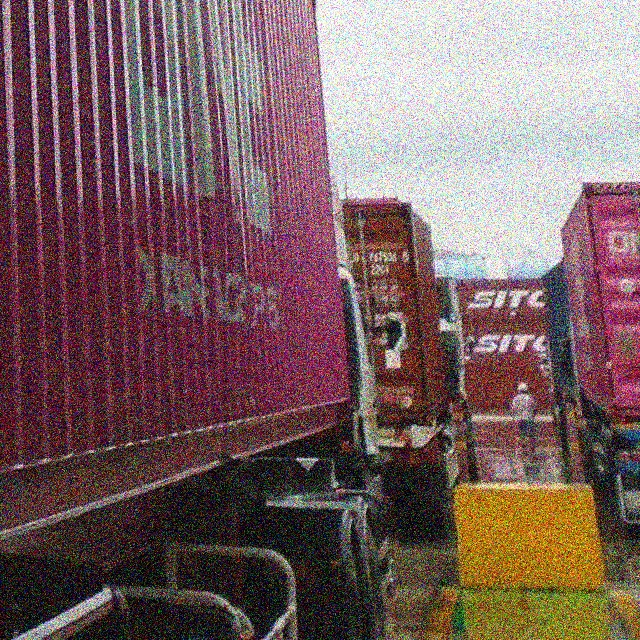Dent: (193, 42, 259, 315), (215, 381, 262, 408)
